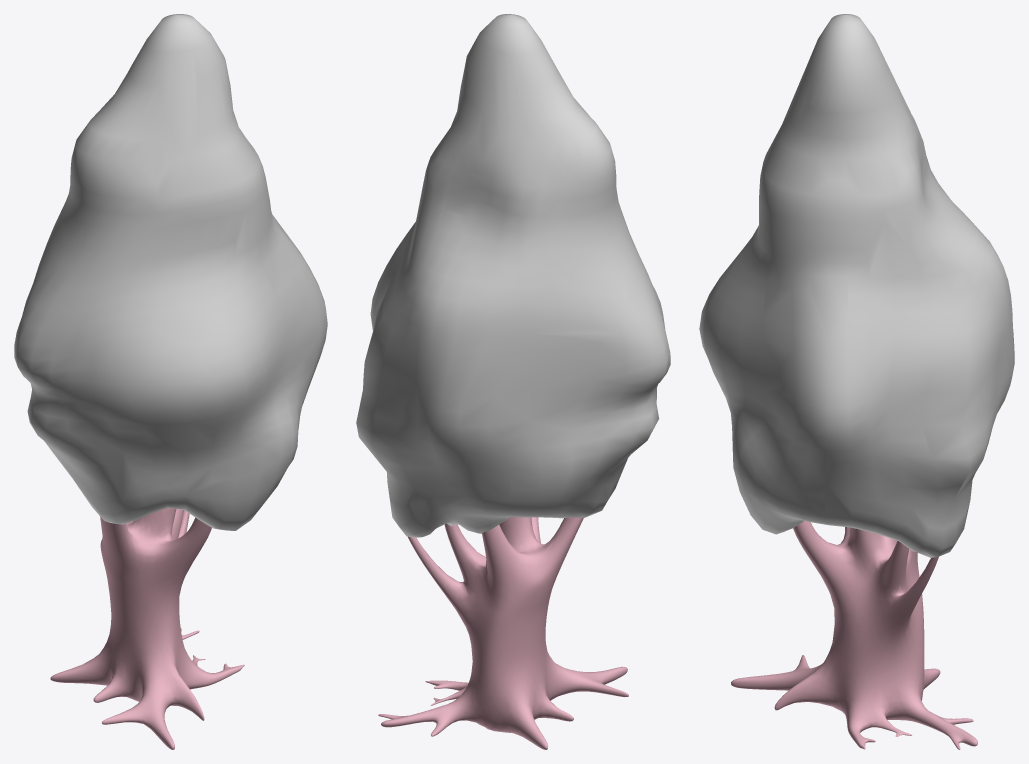
The model's file is Tree_06.fbx.
3 renders of one model, left to right at view 1: azimuth 30°, elevation 25°; view 2: azimuth 150°, elevation 25°; view 3: azimuth 270°, elevation 25°, orthographic. The views are drawn at different scales.
Visible parts, largest first — view 1: Tree_6L, Tree_06; view 2: Tree_6L, Tree_06; view 3: Tree_6L, Tree_06.
Part boxes in pixels (bbox=[...]): Tree_6L: bbox=[14, 14, 327, 530]; Tree_06: bbox=[50, 507, 244, 749]; Tree_6L: bbox=[356, 14, 670, 537]; Tree_06: bbox=[378, 517, 628, 749]; Tree_6L: bbox=[699, 14, 1014, 557]; Tree_06: bbox=[731, 521, 977, 749].
Size of the model in its own units: 540 by 1188 by 479.
